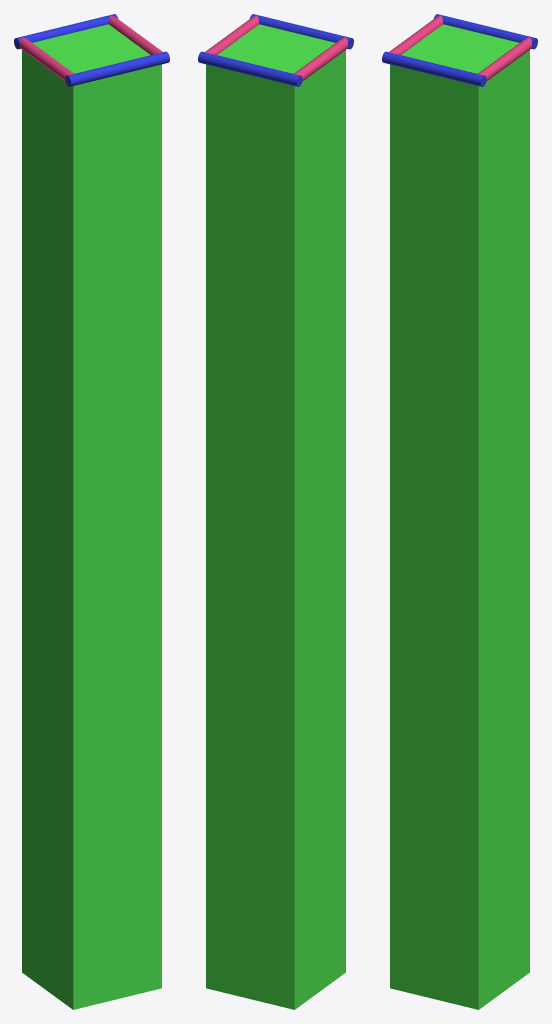
Rendered from Ground Model.fbx.
3 views of the same model, side by side, from view 1: azimuth 30°, elevation 25°; view 2: azimuth 150°, elevation 25°; view 3: azimuth 330°, elevation 25° (orthographic).
Parts seen in each view (by area): view 1: platform; view 2: platform; view 3: platform.
Part boxes in pixels (<box>): platform: <box>14,14,169,1009</box>; platform: <box>198,14,353,1009</box>; platform: <box>382,14,537,1009</box>.
Size of the model in its own units: 223 by 2011 by 223.
